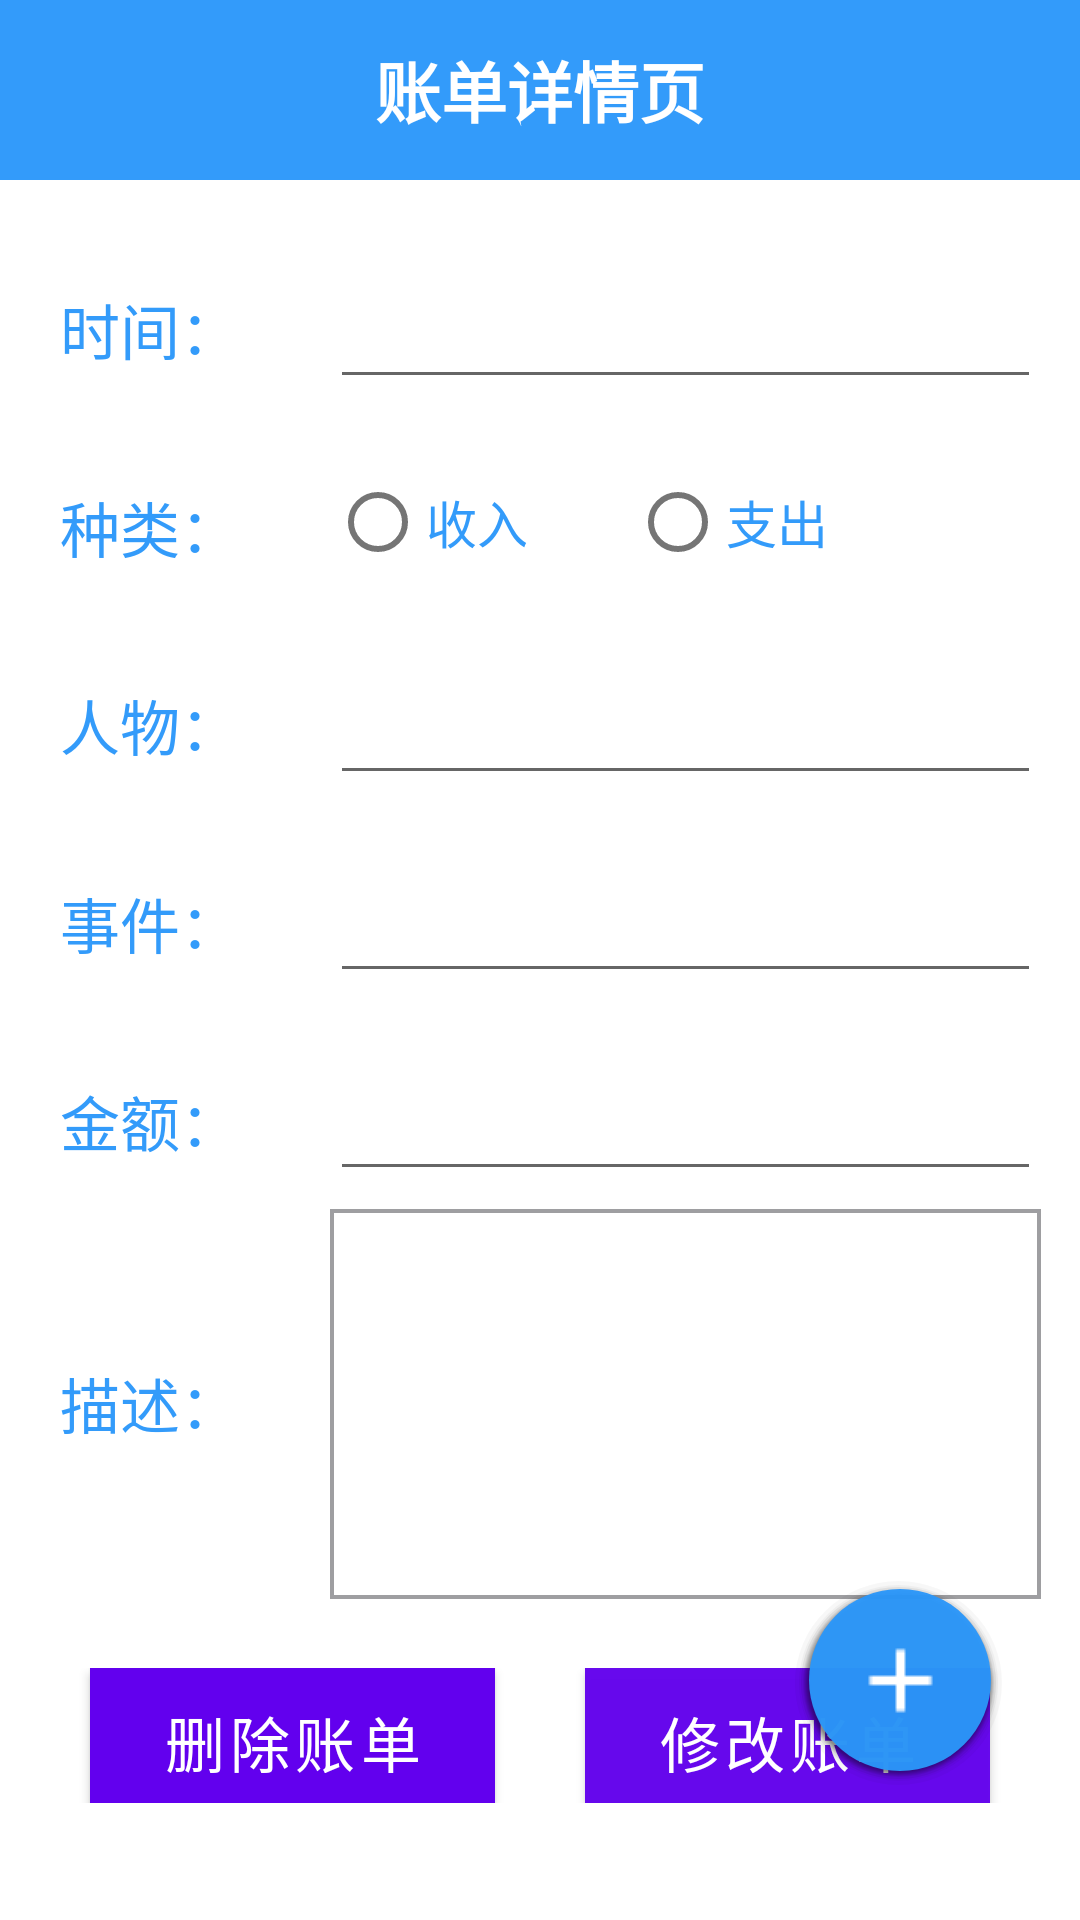

Screen size 1080x1920. Icon name, then its center in pixels as point (x, y):
add note: point (900, 1686)
